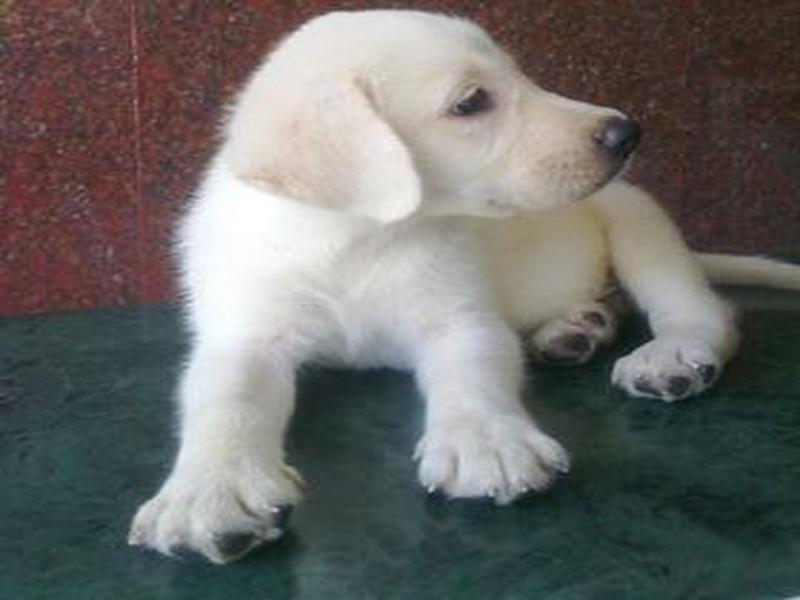dog_down: (140, 9, 741, 561)
